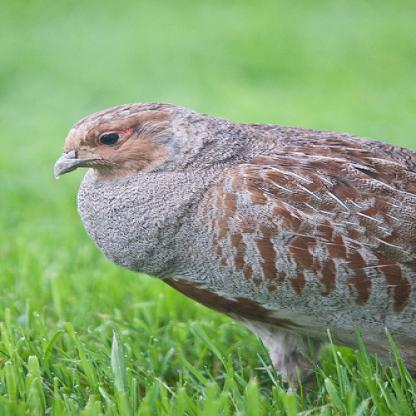bird: (50, 101, 415, 391)
